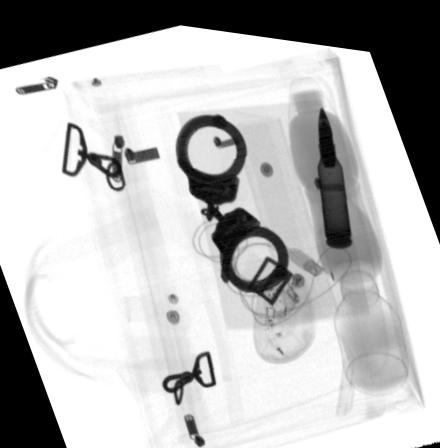Bullet: (317, 98, 352, 238)
HandCuffs: (175, 105, 291, 287)
